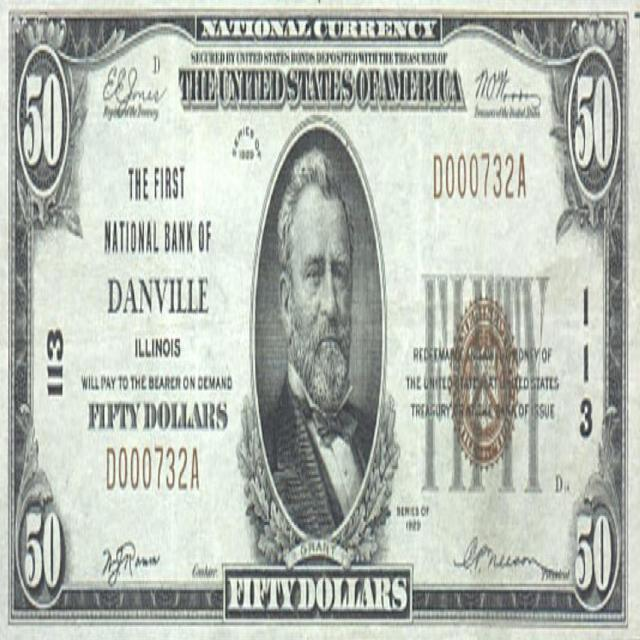50-Front: (1, 1, 640, 640)
